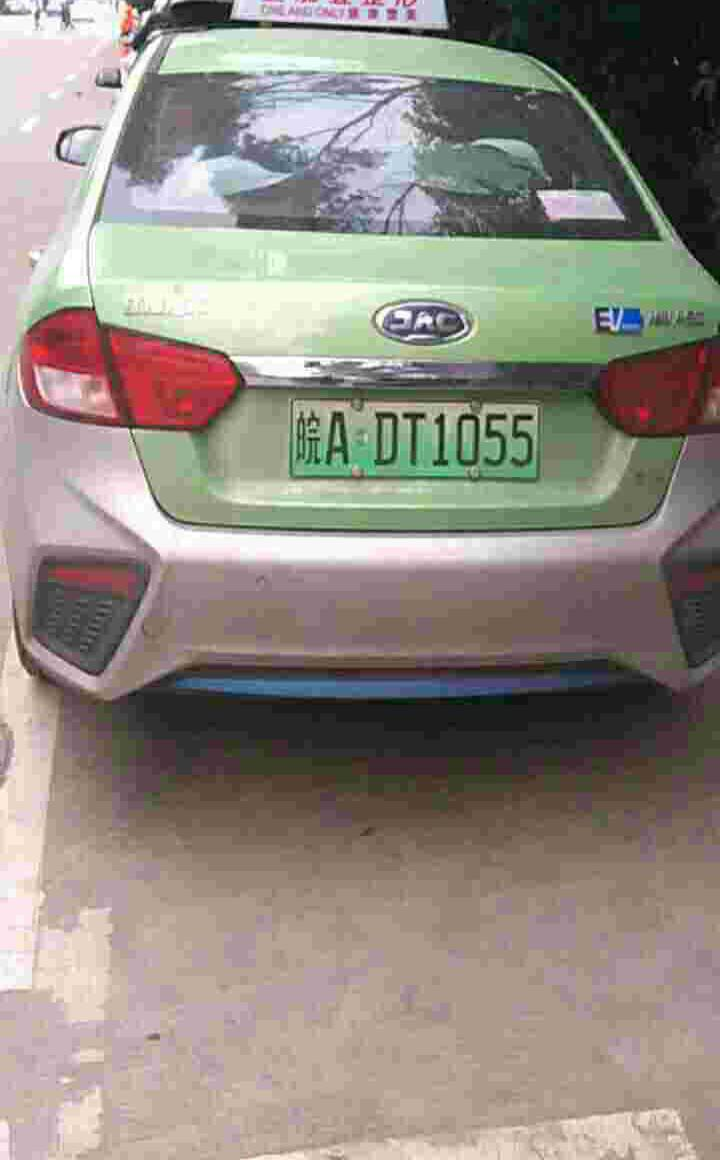car: (293, 380, 554, 498)
